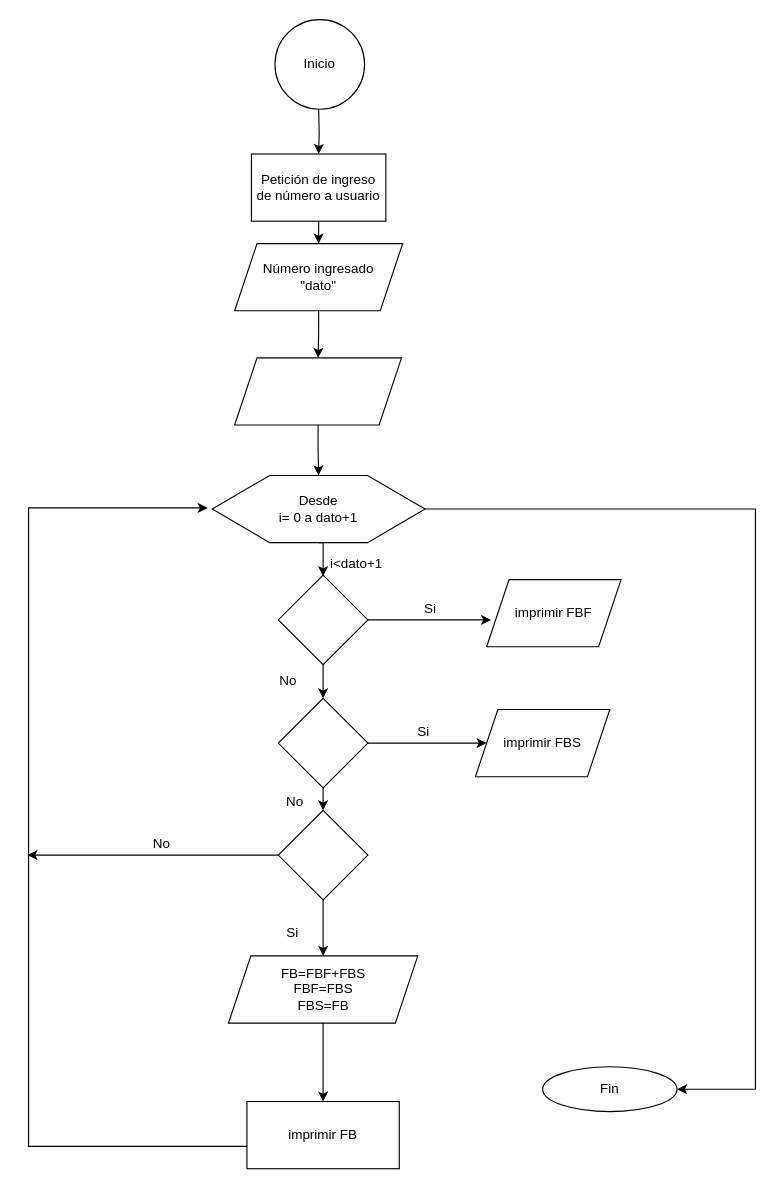
Some shapes in this 784 by 1188 pixel diagram are drawn without their labels. The box of each missing label's shape, as (x1, y1, x2, y2) in pixels:
i==0: (277, 574, 368, 665)
i==1: (277, 697, 368, 788)
i>1: (277, 809, 368, 900)
inicializar variables FB=0 FBF=0 FBS=1: (234, 357, 402, 425)
